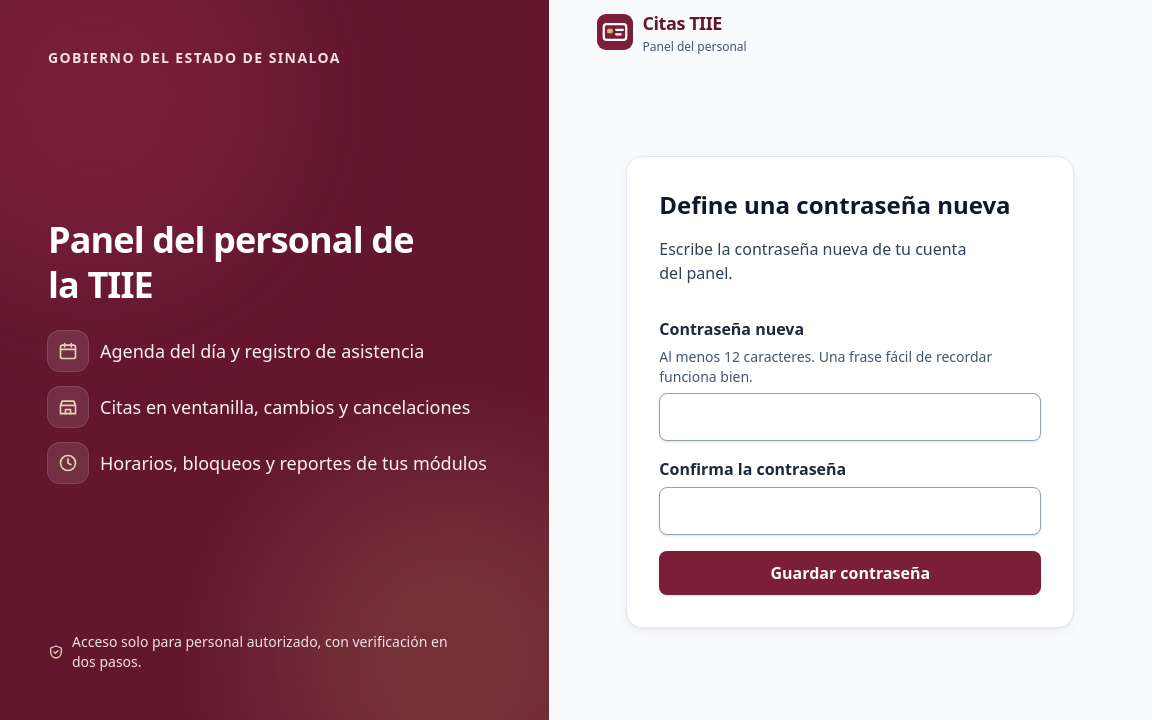
Restablecer la contraseña con el enlace del correo › con TokenInvalido ofrece pedir un enlace nuevo
Type "una frase larga y segura" into the password field labelled "Contraseña nueva".
click(850, 417); type("una frase larga y segura")  # box [659,393,1041,441]
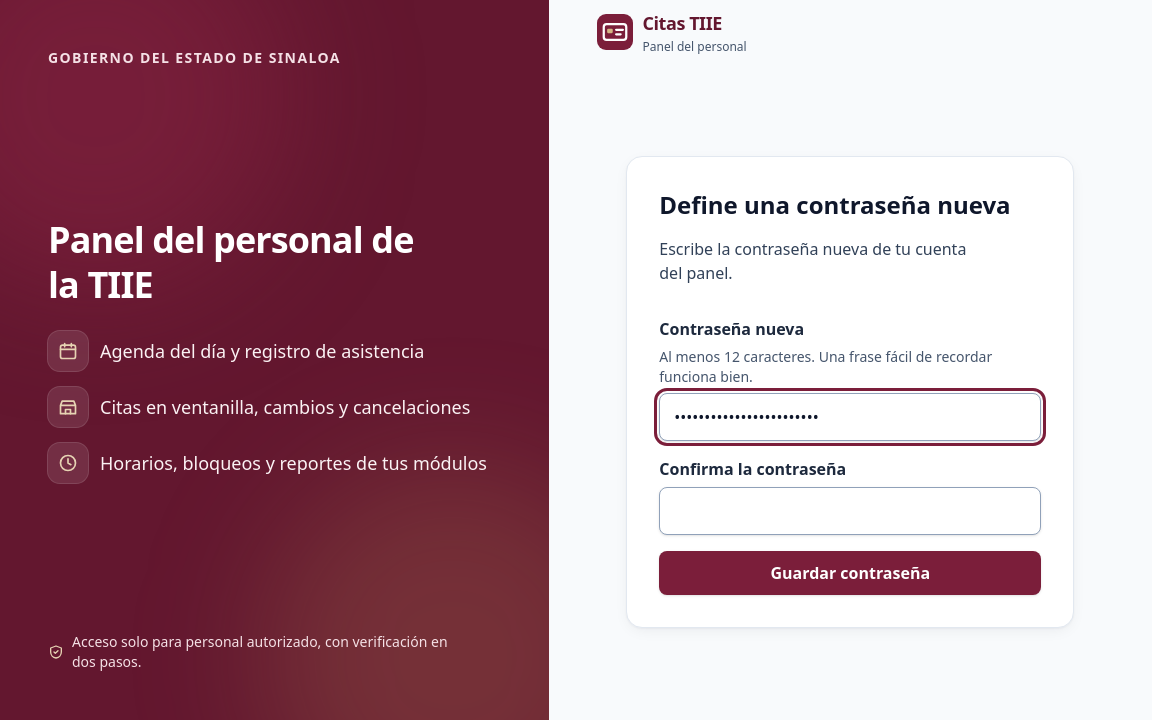
Type "una frase larga y segura" into the password field labelled "Confirma la contraseña".
click(850, 511); type("una frase larga y segura")  # box [659,487,1041,535]
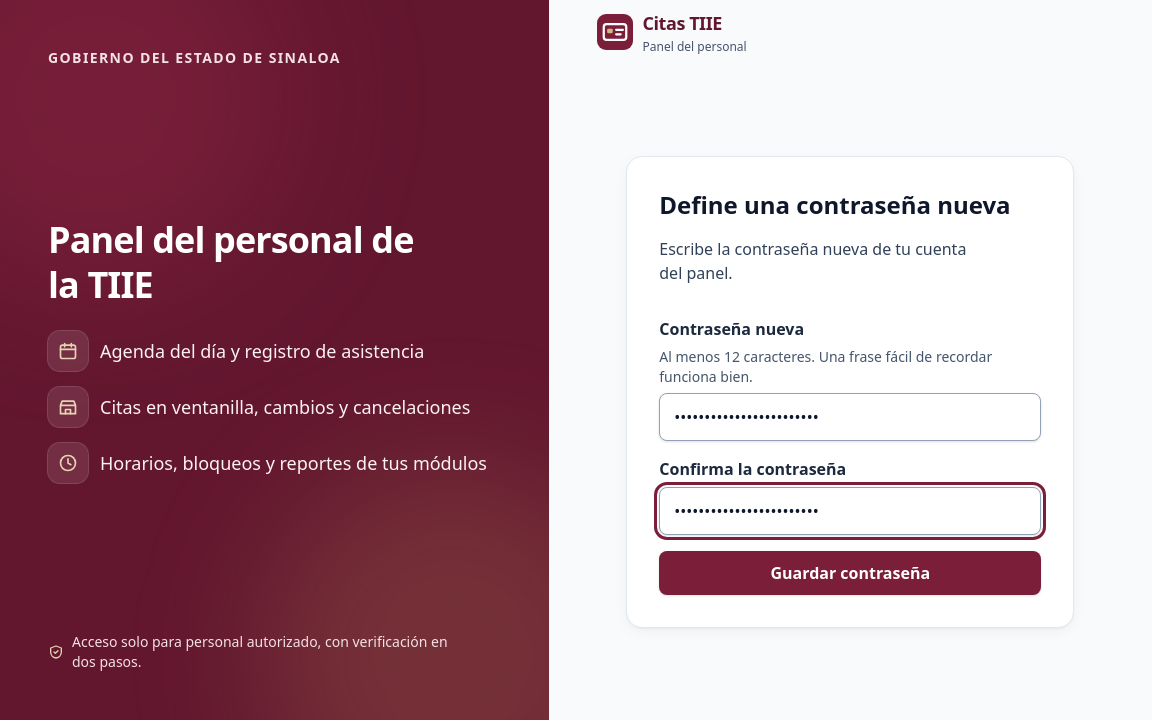
Click the button "Guardar contraseña".
click(850, 573)  # box [659,551,1041,595]
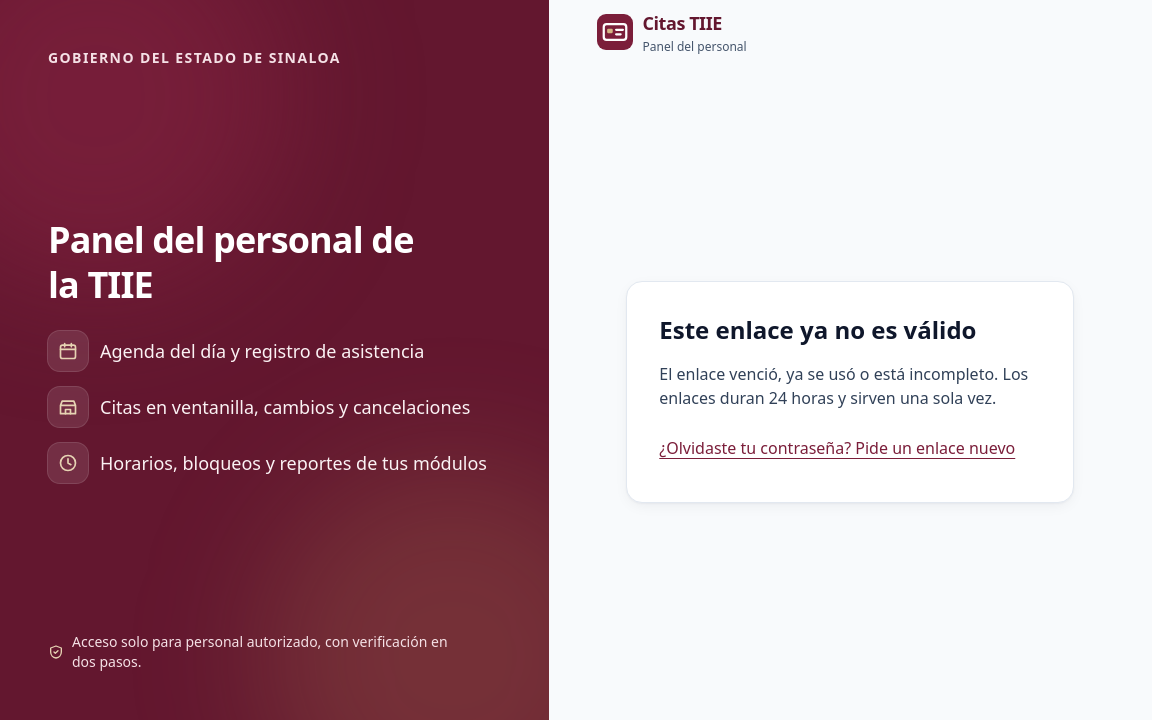
Now the heading "Este enlace ya no es válido" is shown, box [659,313,976,346]
